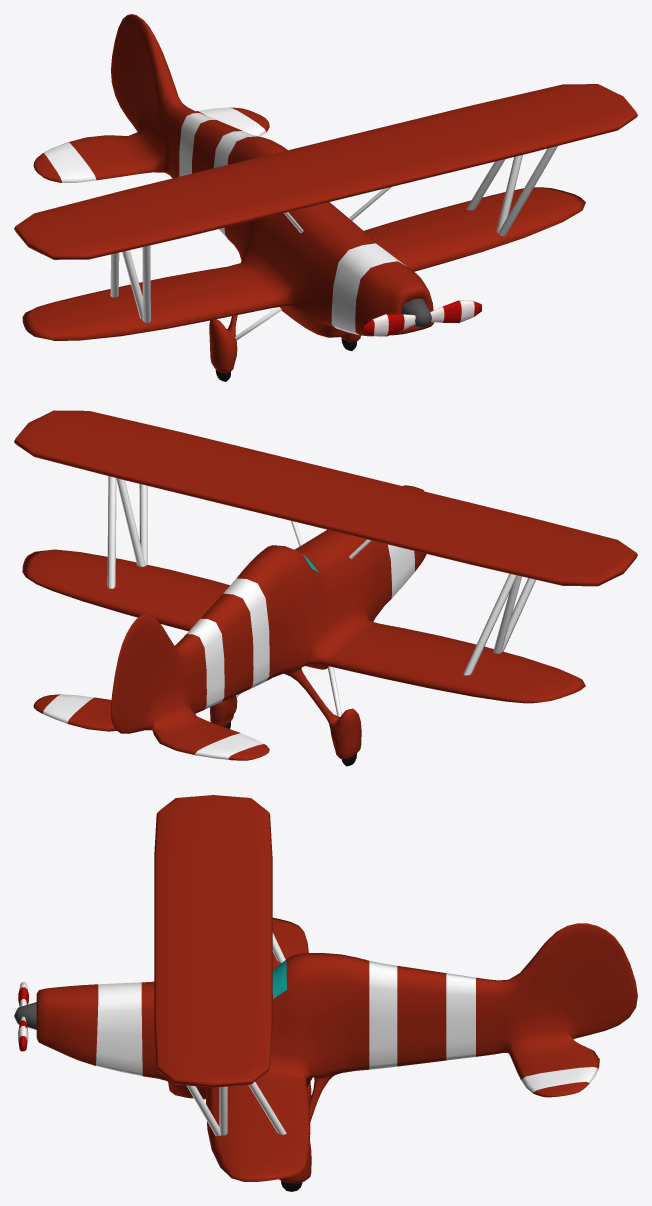
The model's file is aviator_plane.fbx.
The picture shows the model from 3 angles, top to bottom: view 1: azimuth 30°, elevation 25°; view 2: azimuth 150°, elevation 25°; view 3: azimuth 270°, elevation 25°; orthographic projection.
Parts seen in each view (by area): view 1: Aviator_Plane, Aviator_Plane_Top_Wing, Aviator_Plane_Fan, Aviator_Plane_Bottom_Stick08, Aviator_Plane_Bottom_Stick07, Aviator_Plane_Bottom_Stick03, Aviator_Engine, Aviator_Plane_Bottom_Stick06; view 2: Aviator_Plane, Aviator_Plane_Top_Wing, Aviator_Plane_Bottom_Stick04, Aviator_Plane_Bottom_Stick05, Aviator_Plane_Bottom_Stick03, Aviator_Plane_Bottom_Stick06, Aviator_Plane_Bottom_Stick08, Aviator_Plane_Bottom_Stick07; view 3: Aviator_Plane, Aviator_Plane_Top_Wing.
Boxes of the visible parts, <box> form: Aviator_Plane: <box>22,14,585,373</box>; Aviator_Plane_Top_Wing: <box>14,84,637,259</box>; Aviator_Plane_Fan: <box>363,300,481,336</box>; Aviator_Plane_Bottom_Stick08: <box>498,146,557,236</box>; Aviator_Plane_Bottom_Stick07: <box>142,245,150,323</box>; Aviator_Plane_Bottom_Stick03: <box>496,155,522,232</box>; Aviator_Engine: <box>401,298,431,327</box>; Aviator_Plane_Bottom_Stick06: <box>122,250,142,319</box>; Aviator_Plane: <box>22,485,585,760</box>; Aviator_Plane_Top_Wing: <box>14,410,637,586</box>; Aviator_Plane_Bottom_Stick04: <box>107,476,116,588</box>; Aviator_Plane_Bottom_Stick05: <box>463,573,517,675</box>; Aviator_Plane_Bottom_Stick03: <box>116,478,145,566</box>; Aviator_Plane_Bottom_Stick06: <box>493,575,521,653</box>; Aviator_Plane_Bottom_Stick08: <box>139,484,147,565</box>; Aviator_Plane_Bottom_Stick07: <box>501,578,535,652</box>; Aviator_Plane: <box>36,917,637,1182</box>; Aviator_Plane_Top_Wing: <box>154,795,272,1087</box>.
Bounding box in the file's own units: 983 × 379 × 900.
